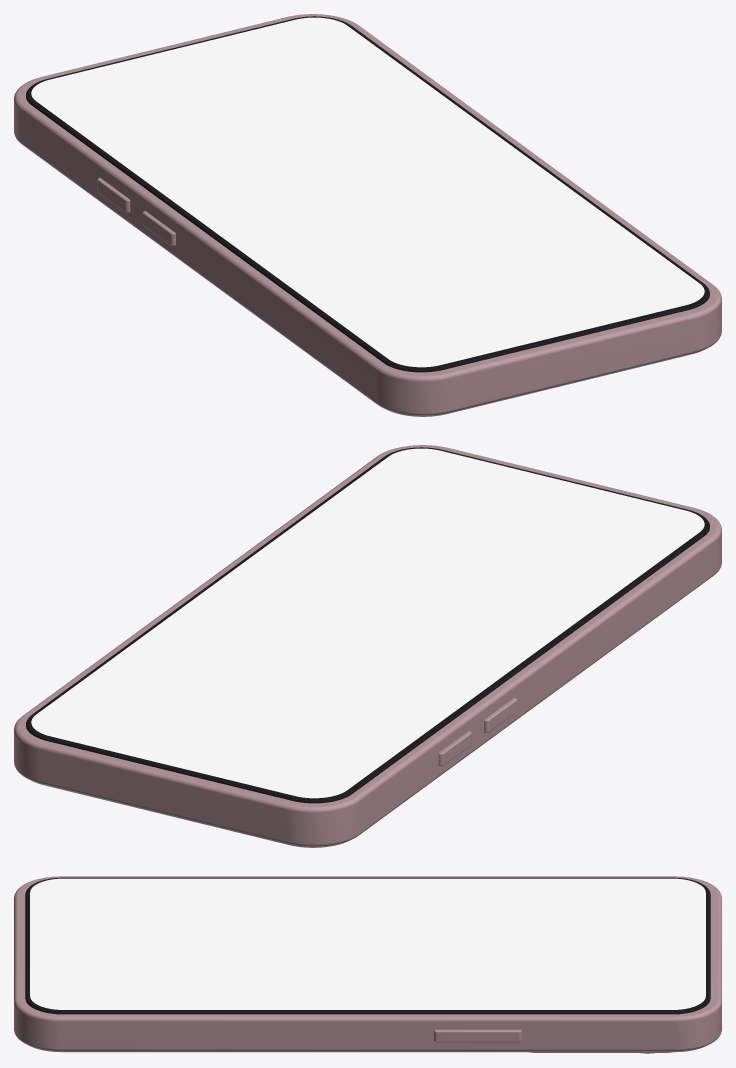
The model's file is phone-rounded.glb.
The picture shows the model from 3 angles, top to bottom: view 1: azimuth 30°, elevation 25°; view 2: azimuth 150°, elevation 25°; view 3: azimuth 270°, elevation 25°; orthographic projection. The views are drawn at different scales.
Parts seen in each view (by area): view 1: BaddieRoundedPhone; view 2: BaddieRoundedPhone; view 3: BaddieRoundedPhone.
Boxes of the visible parts, bbox=[...] form: BaddieRoundedPhone: bbox=[14, 14, 721, 416]; BaddieRoundedPhone: bbox=[14, 445, 721, 847]; BaddieRoundedPhone: bbox=[14, 876, 721, 1053].
Size of the model in its own units: 0.1103 by 0.019 by 0.2253.
